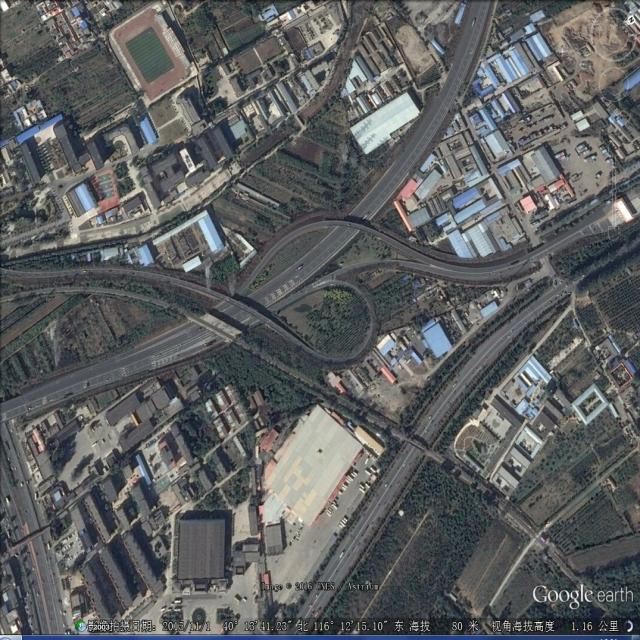overpass: (209, 206, 451, 374)
